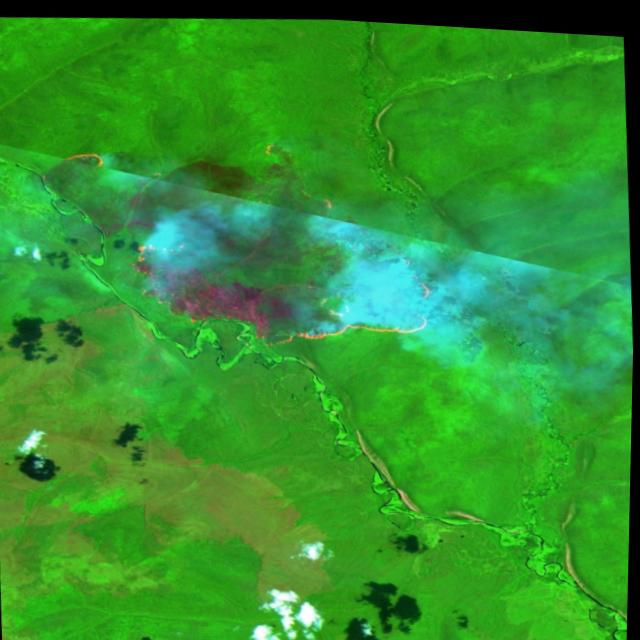fire: (51, 115, 447, 363)
